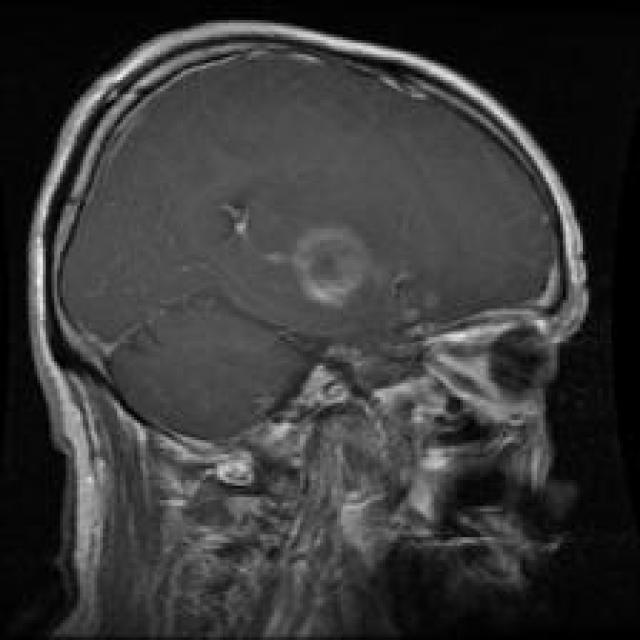glioma_tumor: (202, 182, 441, 358)
